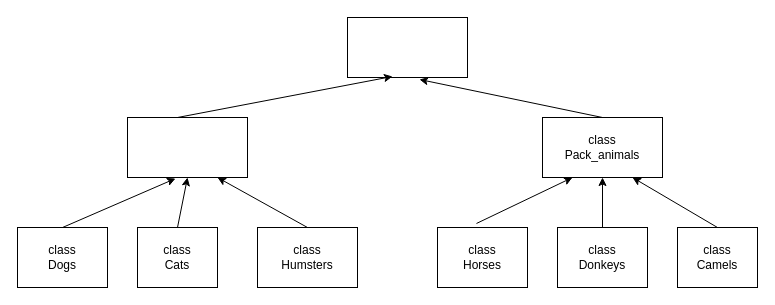
Image size: 775x305. Some labels were removed from this diagram. Here are the shapes that lost their labels. From the top down, the box of each, then its label:
(346, 16, 468, 78): abstract class Animals
(126, 116, 248, 178): class Pet_animals
